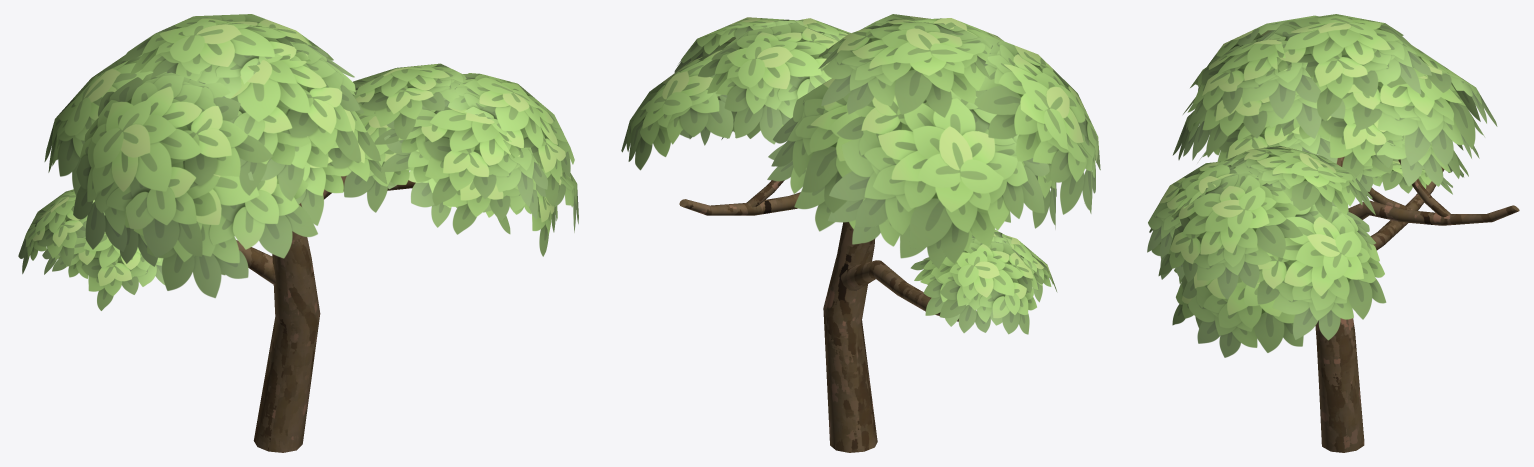
The model's file is Tree_9.glb.
3 renders of one model, left to right at view 1: azimuth 30°, elevation 25°; view 2: azimuth 150°, elevation 25°; view 3: azimuth 270°, elevation 25°, orthographic. The views are drawn at different scales.
Visible parts, largest first — view 1: Tree_9; view 2: Tree_9; view 3: Tree_9.
Part boxes in pixels (x1=…): Tree_9: x1=18, y1=14, x2=578, y2=452; Tree_9: x1=621, y1=14, x2=1100, y2=452; Tree_9: x1=1147, y1=14, x2=1519, y2=452.
Bounding box in the file's own units: 6.36 × 5.49 × 4.94.
Materials: 2 (2 with a texture image).
